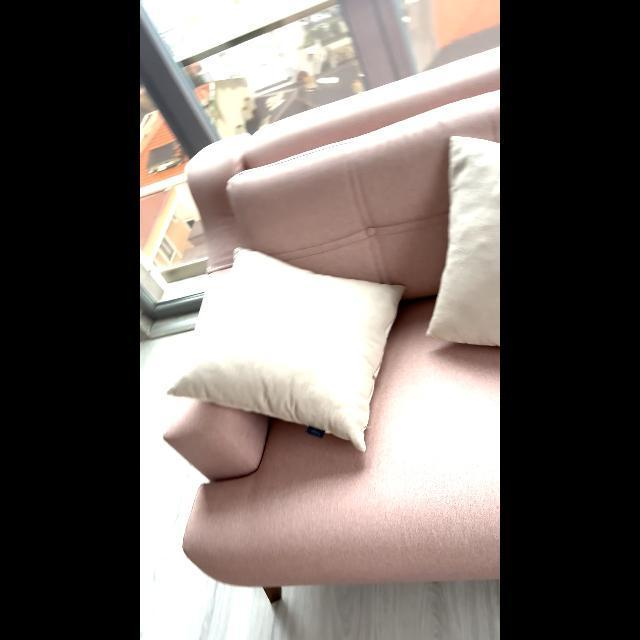throw pillow: (162, 240, 418, 456), (402, 122, 500, 364)
